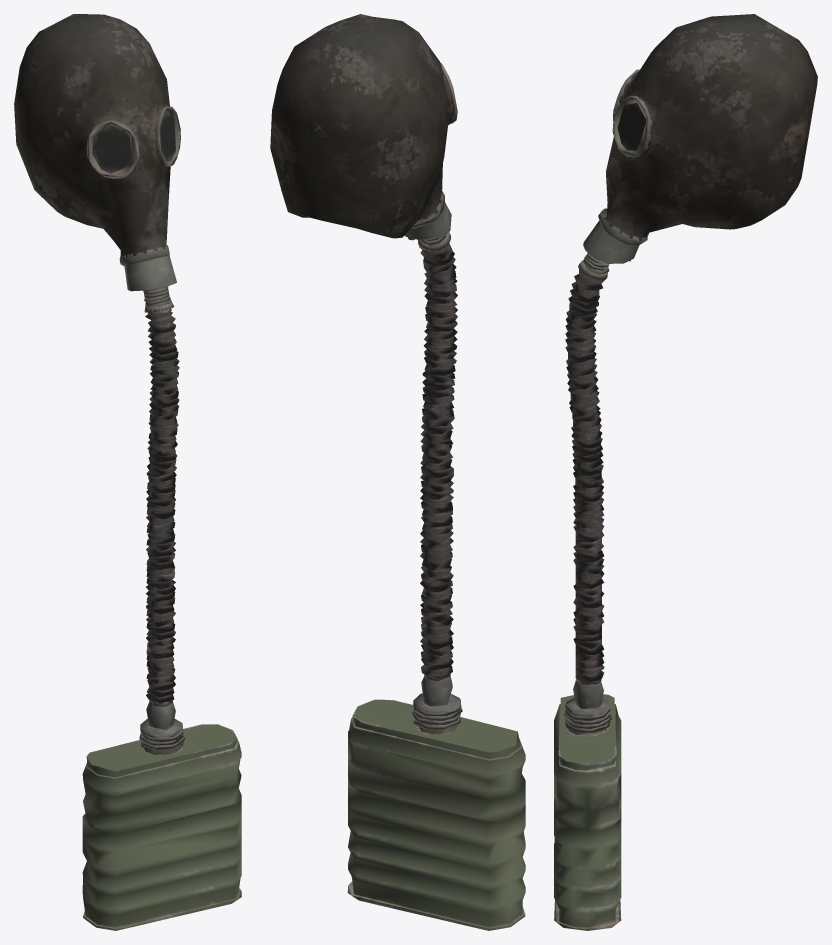
Rendered from old_gas_mask.glb.
3 renders of one model, left to right at view 1: azimuth 30°, elevation 25°; view 2: azimuth 150°, elevation 25°; view 3: azimuth 270°, elevation 25°, orthographic. The views are drawn at different scales.
Parts seen in each view (by area): view 1: old_gas_mask; view 2: old_gas_mask; view 3: old_gas_mask.
Boxes of the visible parts, left/top/right/bottom form: old_gas_mask: left=14, top=14, right=241, bottom=930; old_gas_mask: left=270, top=14, right=525, bottom=930; old_gas_mask: left=554, top=14, right=817, bottom=930.
Size of the model in its own units: 0.2105 by 1.12 by 0.3087.
Materials: 1 (1 with a texture image).
